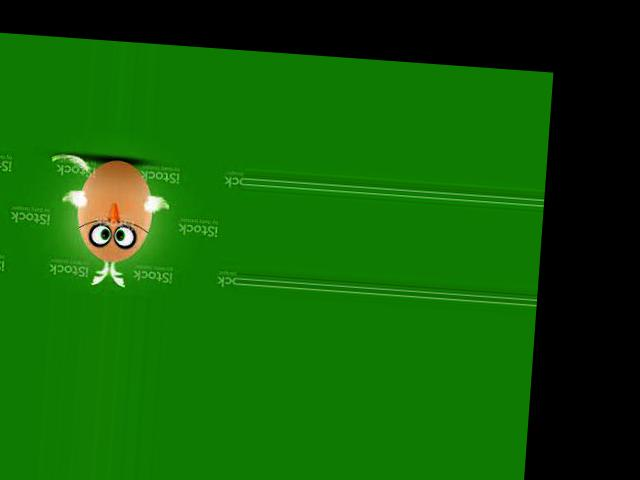egg: (73, 156, 154, 264)
